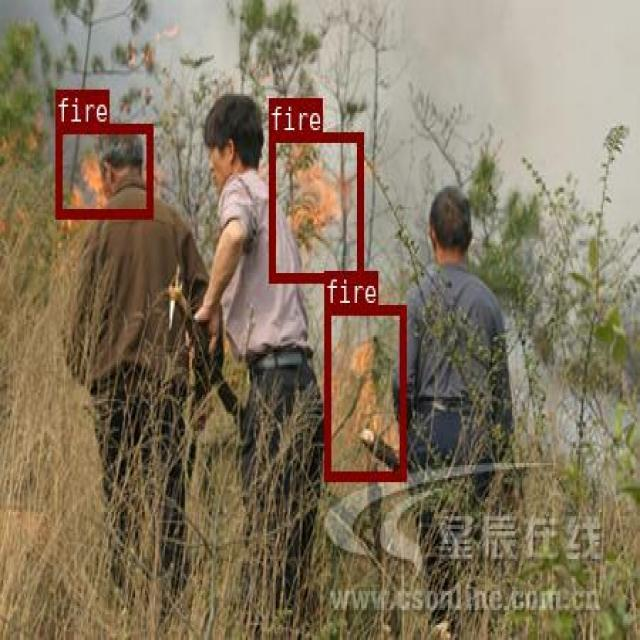fire: (323, 304, 405, 479), (268, 132, 362, 280), (55, 122, 151, 217)
